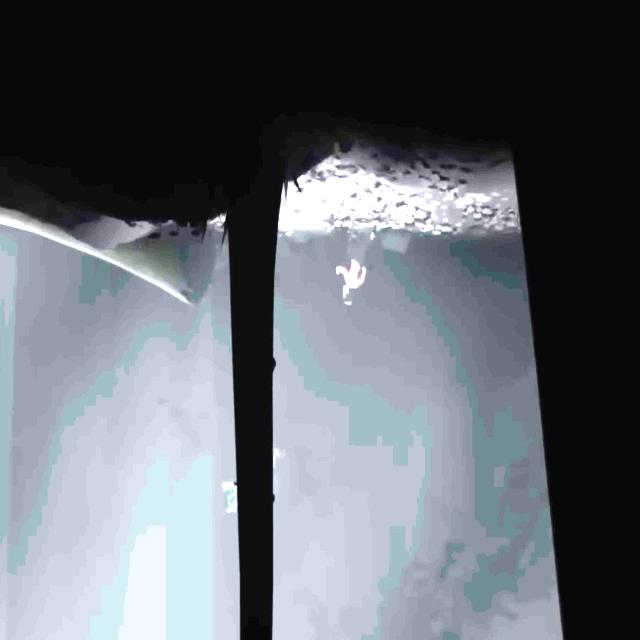boy: (336, 225, 377, 305)
